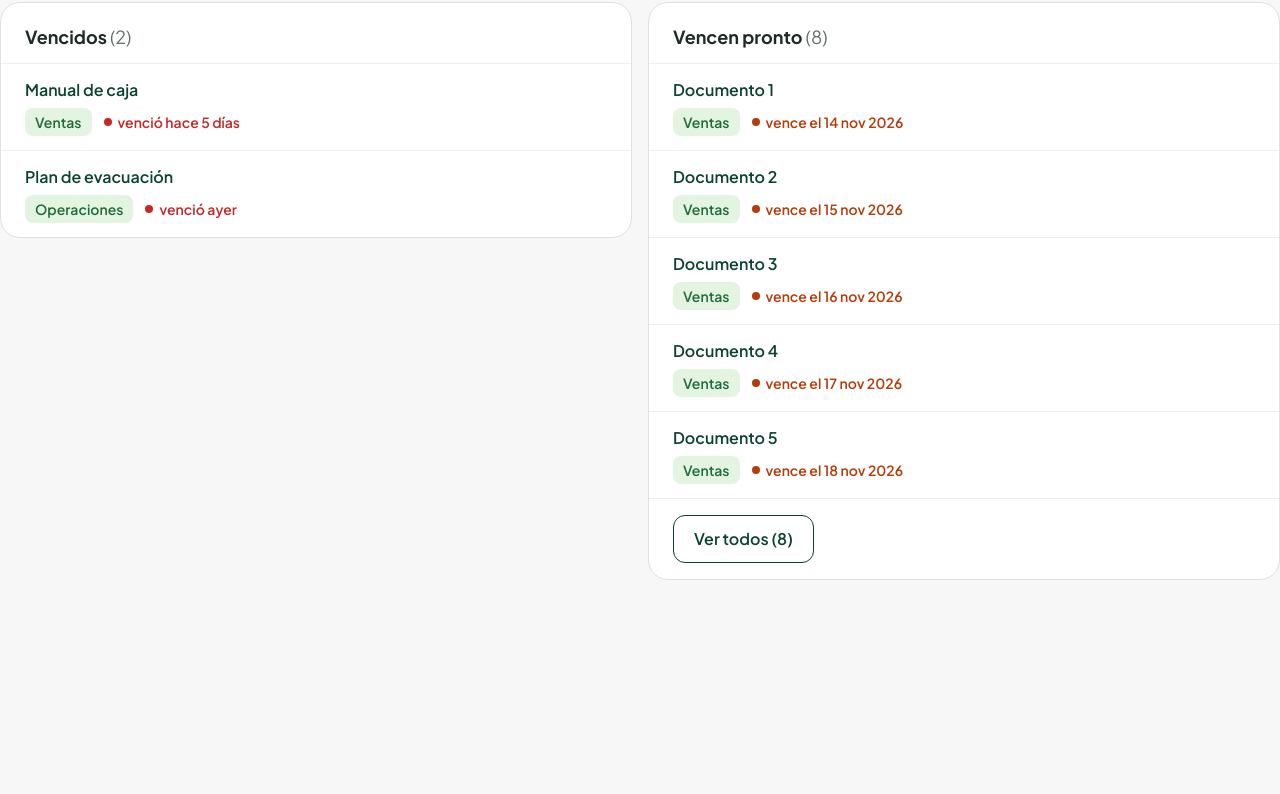
Test: Vencen pronto and Vencidos › more than five: the five most urgent, and "Ver todos (N)" opens the rest in place
This screenshot has width=1280, height=794.
Click the button "Ver todos (8)": {"x": 743, "y": 539} x1=673 y1=515 x2=814 y2=563
(page scrolled)
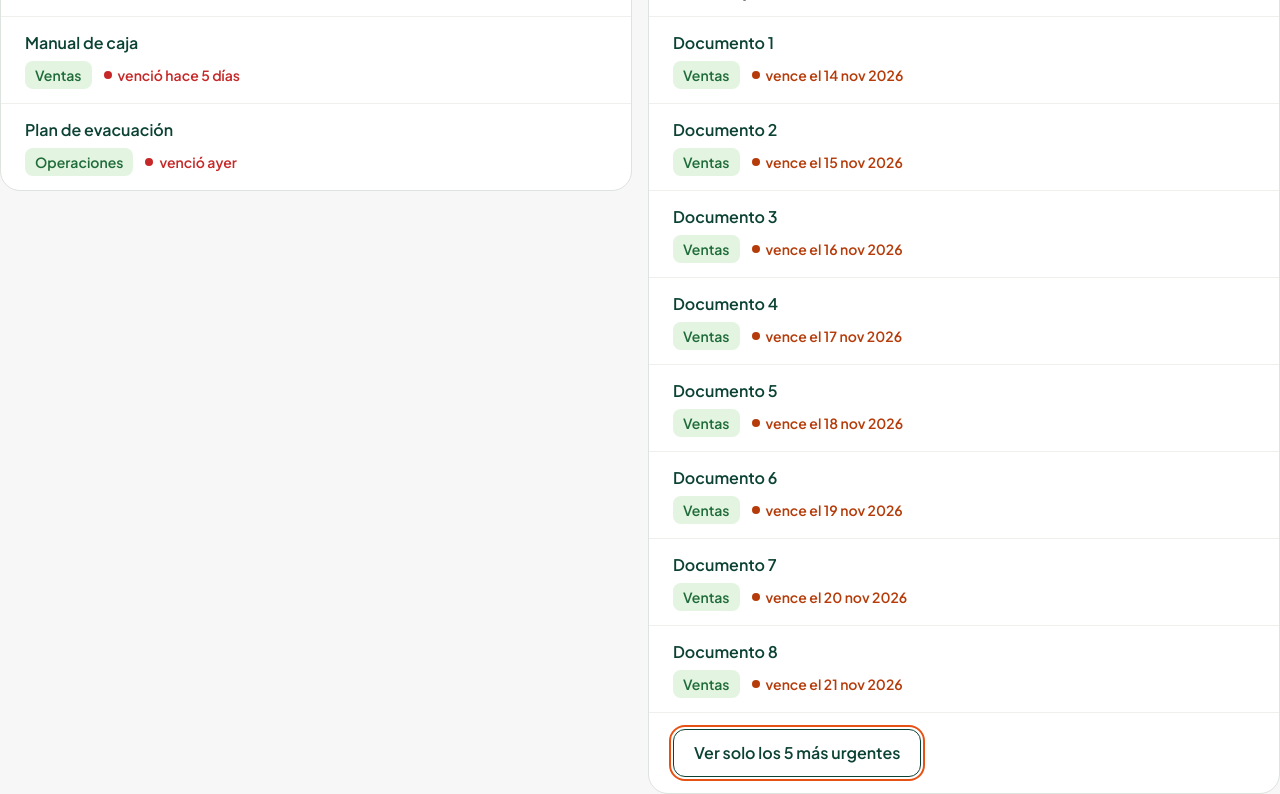
Expected: the button named "Ver todos (8)" is expanded, x1=673 y1=729 x2=921 y2=777
Expected: the button named "Ver todos (8)" reads "Ver solo los 5 más urgentes", x1=673 y1=729 x2=921 y2=777
